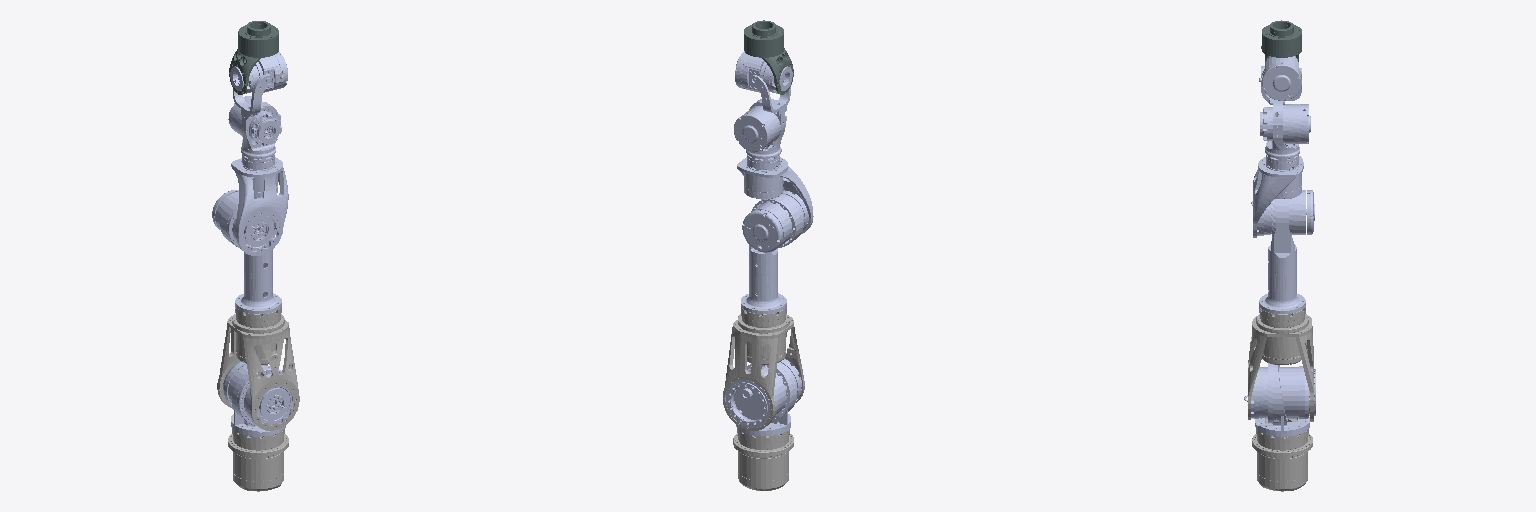
URDF robot description (RIGHT_ARM_0219):
<?xml version="1.0" encoding="utf-8"?>
<!-- This URDF was automatically created by SolidWorks to URDF Exporter! Originally created by [author] ([email redacted]) 
     Commit Version: 1.6.0-4-g7f85cfe  Build Version: 1.6.7995.38578
     For more information, please see http://wiki.ros.org/sw_urdf_exporter -->
<robot
  name="RIGHT_ARM_0219">
  <link
    name="base_link">
    <inertial>
      <origin
        xyz="-4.49638920533501E-05 -2.05737864590571E-06 -0.00772650805047688"
        rpy="0 0 0" />
      <mass
        value="0.429473320390598" />
      <inertia
        ixx="0.000446156832544784"
        ixy="-8.49807736040769E-08"
        ixz="-8.51186144846858E-07"
        iyy="0.000445537727410183"
        iyz="-8.57703325105368E-08"
        izz="0.00036884021264917" />
    </inertial>
    <visual>
      <origin
        xyz="0 0 0"
        rpy="0 0 0" />
      <geometry>
        <mesh
          filename="package://duco_support/meshes/RIGHT_ARM_0219/base_link.STL" />
      </geometry>
      <material
        name="">
        <color
          rgba="0.752941176470588 0.752941176470588 0.752941176470588 1" />
      </material>
    </visual>
    <collision>
      <origin
        xyz="0 0 0"
        rpy="0 0 0" />
      <geometry>
        <mesh
          filename="package://duco_support/meshes/RIGHT_ARM_0219/base_link.STL" />
      </geometry>
    </collision>
  </link>
  <link
    name="J1_Link">
    <inertial>
      <origin
        xyz="4.8303527632962E-05 -0.00461629016521925 -0.00387592390917824"
        rpy="0 0 0" />
      <mass
        value="0.510233259871843" />
      <inertia
        ixx="0.000628784756730148"
        ixy="-1.83174095358342E-06"
        ixz="-1.65734994667275E-06"
        iyy="0.000551716455124223"
        iyz="1.41800757762675E-05"
        izz="0.000577840722011292" />
    </inertial>
    <visual>
      <origin
        xyz="0 0 0"
        rpy="0 0 0" />
      <geometry>
        <mesh
          filename="package://duco_support/meshes/RIGHT_ARM_0219/J1_Link.STL" />
      </geometry>
      <material
        name="">
        <color
          rgba="0.792156862745098 0.819607843137255 0.933333333333333 1" />
      </material>
    </visual>
    <collision>
      <origin
        xyz="0 0 0"
        rpy="0 0 0" />
      <geometry>
        <mesh
          filename="package://duco_support/meshes/RIGHT_ARM_0219/J1_Link.STL" />
      </geometry>
    </collision>
  </link>
  <joint
    name="J1"
    type="revolute">
    <origin
      xyz="0 0 0.0897"
      rpy="0 0 0" />
    <parent
      link="base_link" />
    <child
      link="J1_Link" />
    <axis
      xyz="0 0 1" />
    <limit
      lower="-3.14"
      upper="3.14"
      effort="200"
      velocity="4" />
  </joint>
  <link
    name="J2_Link">
    <inertial>
      <origin
        xyz="-6.13611217320431E-05 0.10052432568776 -0.000555195554636527"
        rpy="0 0 0" />
      <mass
        value="1.10759562080518" />
      <inertia
        ixx="0.00206987964805257"
        ixy="-2.57275639913681E-06"
        ixz="4.05578688835965E-07"
        iyy="0.00119017895451606"
        iyz="-2.49279412313371E-05"
        izz="0.00181064971088042" />
    </inertial>
    <visual>
      <origin
        xyz="0 0 0"
        rpy="0 0 0" />
      <geometry>
        <mesh
          filename="package://duco_support/meshes/RIGHT_ARM_0219/J2_Link.STL" />
      </geometry>
      <material
        name="">
        <color
          rgba="0.752941176470588 0.752941176470588 0.752941176470588 1" />
      </material>
    </visual>
    <collision>
      <origin
        xyz="0 0 0"
        rpy="0 0 0" />
      <geometry>
        <mesh
          filename="package://duco_support/meshes/RIGHT_ARM_0219/J2_Link.STL" />
      </geometry>
    </collision>
  </link>
  <joint
    name="J2"
    type="revolute">
    <origin
      xyz="0 0 0"
      rpy="1.5708 0 0" />
    <parent
      link="J1_Link" />
    <child
      link="J2_Link" />
    <axis
      xyz="0 0 1" />
    <limit
      lower="-3.14"
      upper="3.14"
      effort="200"
      velocity="4" />
  </joint>
  <link
    name="J3_Link">
    <inertial>
      <origin
        xyz="-0.0188034164202654 -0.00113806163829158 -0.0144875281301354"
        rpy="0 0 0" />
      <mass
        value="0.390738219005927" />
      <inertia
        ixx="0.000835408137245894"
        ixy="-3.26518617877087E-06"
        ixz="0.00010908994856849"
        iyy="0.0008334888741284"
        iyz="1.29633969952849E-05"
        izz="0.000325975358183887" />
    </inertial>
    <visual>
      <origin
        xyz="0 0 0"
        rpy="0 0 0" />
      <geometry>
        <mesh
          filename="package://duco_support/meshes/RIGHT_ARM_0219/J3_Link.STL" />
      </geometry>
      <material
        name="">
        <color
          rgba="0.792156862745098 0.819607843137255 0.933333333333333 1" />
      </material>
    </visual>
    <collision>
      <origin
        xyz="0 0 0"
        rpy="0 0 0" />
      <geometry>
        <mesh
          filename="package://duco_support/meshes/RIGHT_ARM_0219/J3_Link.STL" />
      </geometry>
    </collision>
  </link>
  <joint
    name="J3"
    type="revolute">
    <origin
      xyz="0 0.3005 0"
      rpy="-1.5708 0 0" />
    <parent
      link="J2_Link" />
    <child
      link="J3_Link" />
    <axis
      xyz="0 0 -1" />
    <limit
      lower="-3.14"
      upper="3.14"
      effort="200"
      velocity="4" />
  </joint>
  <link
    name="J4_Link">
    <inertial>
      <origin
        xyz="0.0207462178233909 0.0730757845443509 0.00789254460865173"
        rpy="0 0 0" />
      <mass
        value="0.229813515488169" />
      <inertia
        ixx="0.000279491169380026"
        ixy="-2.377948631022E-05"
        ixz="1.71400015805349E-05"
        iyy="0.000193281897487325"
        iyz="7.040358812735E-05"
        izz="0.000276590321713548" />
    </inertial>
    <visual>
      <origin
        xyz="0 0 0"
        rpy="0 0 0" />
      <geometry>
        <mesh
          filename="package://duco_support/meshes/RIGHT_ARM_0219/J4_Link.STL" />
      </geometry>
      <material
        name="">
        <color
          rgba="0.792156862745098 0.819607843137255 0.933333333333333 1" />
      </material>
    </visual>
    <collision>
      <origin
        xyz="0 0 0"
        rpy="0 0 0" />
      <geometry>
        <mesh
          filename="package://duco_support/meshes/RIGHT_ARM_0219/J4_Link.STL" />
      </geometry>
    </collision>
  </link>
  <joint
    name="J4"
    type="revolute">
    <origin
      xyz="-0.0225 0 0"
      rpy="1.5708 0 0" />
    <parent
      link="J3_Link" />
    <child
      link="J4_Link" />
    <axis
      xyz="0 0 -1" />
    <limit
      lower="-3.14"
      upper="3.14"
      effort="200"
      velocity="4" />
  </joint>
  <link
    name="J5_Link">
    <inertial>
      <origin
        xyz="-0.00144109946318654 0.0033813374871084 -0.0852537716022692"
        rpy="0 0 0" />
      <mass
        value="0.208873354686385" />
      <inertia
        ixx="0.00018969253243511"
        ixy="-2.18667601227521E-06"
        ixz="1.31418081948862E-05"
        iyy="0.000165881638222573"
        iyz="8.9886950944251E-06"
        izz="0.000128339885614" />
    </inertial>
    <visual>
      <origin
        xyz="0 0 0"
        rpy="0 0 0" />
      <geometry>
        <mesh
          filename="package://duco_support/meshes/RIGHT_ARM_0219/J5_Link.STL" />
      </geometry>
      <material
        name="">
        <color
          rgba="0.792156862745098 0.819607843137255 0.933333333333333 1" />
      </material>
    </visual>
    <collision>
      <origin
        xyz="0 0 0"
        rpy="0 0 0" />
      <geometry>
        <mesh
          filename="package://duco_support/meshes/RIGHT_ARM_0219/J5_Link.STL" />
      </geometry>
    </collision>
  </link>
  <joint
    name="J5"
    type="revolute">
    <origin
      xyz="0.0225 0.25 0"
      rpy="-1.5708 0 0" />
    <parent
      link="J4_Link" />
    <child
      link="J5_Link" />
    <axis
      xyz="0 0 -1" />
    <limit
      lower="-3.14"
      upper="3.14"
      effort="200"
      velocity="4" />
  </joint>
  <link
    name="J6_Link">
    <inertial>
      <origin
        xyz="-3.1797376119358E-05 0.000510249992157474 7.98321668111163E-05"
        rpy="0 0 0" />
      <mass
        value="0.157452997534307" />
      <inertia
        ixx="8.76692566446236E-05"
        ixy="-1.31847298582023E-07"
        ixz="2.42911763720644E-08"
        iyy="6.53234875367015E-05"
        iyz="1.38683664052021E-07"
        izz="9.09421100488096E-05" />
    </inertial>
    <visual>
      <origin
        xyz="0 0 0"
        rpy="0 0 0" />
      <geometry>
        <mesh
          filename="package://duco_support/meshes/RIGHT_ARM_0219/J6_Link.STL" />
      </geometry>
      <material
        name="">
        <color
          rgba="0.792156862745098 0.819607843137255 0.933333333333333 1" />
      </material>
    </visual>
    <collision>
      <origin
        xyz="0 0 0"
        rpy="0 0 0" />
      <geometry>
        <mesh
          filename="package://duco_support/meshes/RIGHT_ARM_0219/J6_Link.STL" />
      </geometry>
    </collision>
  </link>
  <joint
    name="J6"
    type="revolute">
    <origin
      xyz="0 -0.001 0"
      rpy="1.5708 -1.5708 0" />
    <parent
      link="J5_Link" />
    <child
      link="J6_Link" />
    <axis
      xyz="0 -1 0" />
    <limit
      lower="-3.14"
      upper="3.14"
      effort="200"
      velocity="4" />
  </joint>
  <link
    name="J7_Link">
    <inertial>
      <origin
        xyz="0.0525955920770367 -9.54042403959141E-05 -0.00541832910836548"
        rpy="0 0 0" />
      <mass
        value="0.157621845647711" />
      <inertia
        ixx="0.000111322734159587"
        ixy="-4.41143624848792E-09"
        ixz="-1.37632411865464E-05"
        iyy="8.23830173966061E-05"
        iyz="-2.16408214170461E-07"
        izz="7.62645119929939E-05" />
    </inertial>
    <visual>
      <origin
        xyz="0 0 0"
        rpy="0 0 0" />
      <geometry>
        <mesh
          filename="package://duco_support/meshes/RIGHT_ARM_0219/J7_Link.STL" />
      </geometry>
      <material
        name="">
        <color
          rgba="0.43921568627451 0.501960784313725 0.501960784313725 1" />
      </material>
    </visual>
    <collision>
      <origin
        xyz="0 0 0"
        rpy="0 0 0" />
      <geometry>
        <mesh
          filename="package://duco_support/meshes/RIGHT_ARM_0219/J7_Link.STL" />
      </geometry>
    </collision>
  </link>
  <joint
    name="J7"
    type="revolute">
    <origin
      xyz="0 0 0"
      rpy="1.5708 0 0" />
    <parent
      link="J6_Link" />
    <child
      link="J7_Link" />
    <axis
      xyz="0 0 1" />
    <limit
      lower="-3.14"
      upper="3.14"
      effort="200"
      velocity="4" />
  </joint>
</robot>

--- Facts derived from the render (not from the file) ---
The picture shows the robot from 3 angles, left to right: view 1: azimuth 30°, elevation 25°; view 2: azimuth 150°, elevation 25°; view 3: azimuth 270°, elevation 25°; orthographic projection.
Model RIGHT_ARM_0219 with 8 links and 7 joints (7 revolute), rooted at base_link, posed all joints at 0.
Links seen in each view (by area): view 1: J2_Link, J3_Link, J4_Link, base_link, J1_Link, J5_Link, J7_Link, J6_Link; view 2: J3_Link, J2_Link, J1_Link, base_link, J5_Link, J4_Link, J7_Link, J6_Link; view 3: J3_Link, J2_Link, J1_Link, base_link, J5_Link, J4_Link, J6_Link, J7_Link.
Link boxes in pixels (left/top/right/bottom): J2_Link: left=217, top=306, right=299, bottom=430; J3_Link: left=212, top=190, right=281, bottom=313; J4_Link: left=231, top=154, right=288, bottom=255; base_link: left=228, top=429, right=288, bottom=491; J1_Link: left=223, top=361, right=293, bottom=436; J5_Link: left=228, top=74, right=281, bottom=158; J7_Link: left=229, top=21, right=278, bottom=94; J6_Link: left=230, top=52, right=287, bottom=93; J3_Link: left=741, top=190, right=808, bottom=313; J2_Link: left=723, top=306, right=804, bottom=430; J1_Link: left=726, top=359, right=801, bottom=435; base_link: left=733, top=428, right=793, bottom=490; J5_Link: left=734, top=75, right=790, bottom=158; J4_Link: left=737, top=145, right=813, bottom=233; J7_Link: left=744, top=20, right=793, bottom=94; J6_Link: left=735, top=51, right=792, bottom=93; J3_Link: left=1251, top=190, right=1314, bottom=313; J2_Link: left=1248, top=305, right=1313, bottom=421; J1_Link: left=1244, top=363, right=1315, bottom=436; base_link: left=1252, top=419, right=1312, bottom=491; J5_Link: left=1260, top=66, right=1310, bottom=158; J4_Link: left=1253, top=144, right=1303, bottom=237; J6_Link: left=1259, top=56, right=1301, bottom=100; J7_Link: left=1261, top=20, right=1301, bottom=61.
Size in the robot's own frame: 0.1115 by 0.1127 by 0.789 metres.
Meshes: 8 distinct files referenced, 8 mesh visuals loaded (8 binary STL).